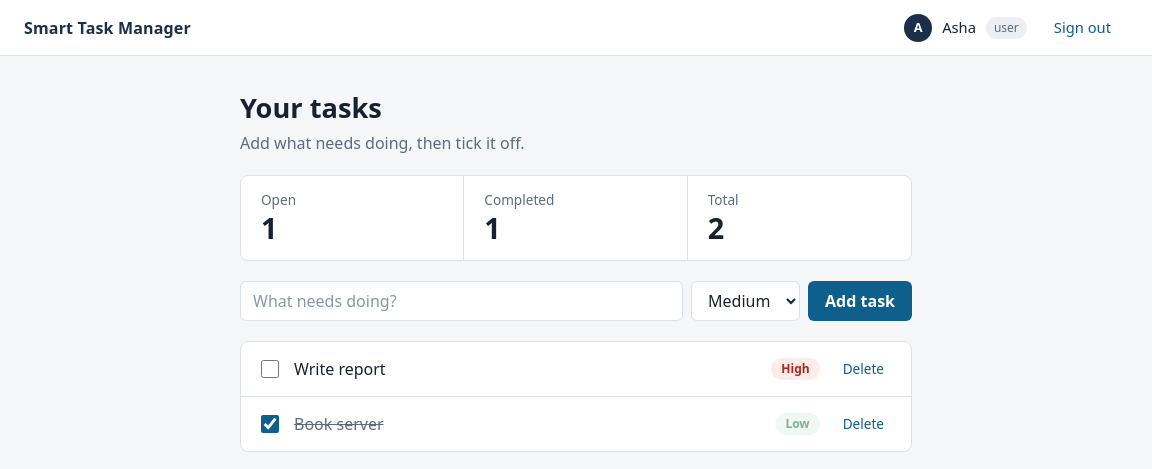
Test: deleting removes the task
Click the button named "Delete \"Write report\"" at point(863, 369), box [832,354,895,384]
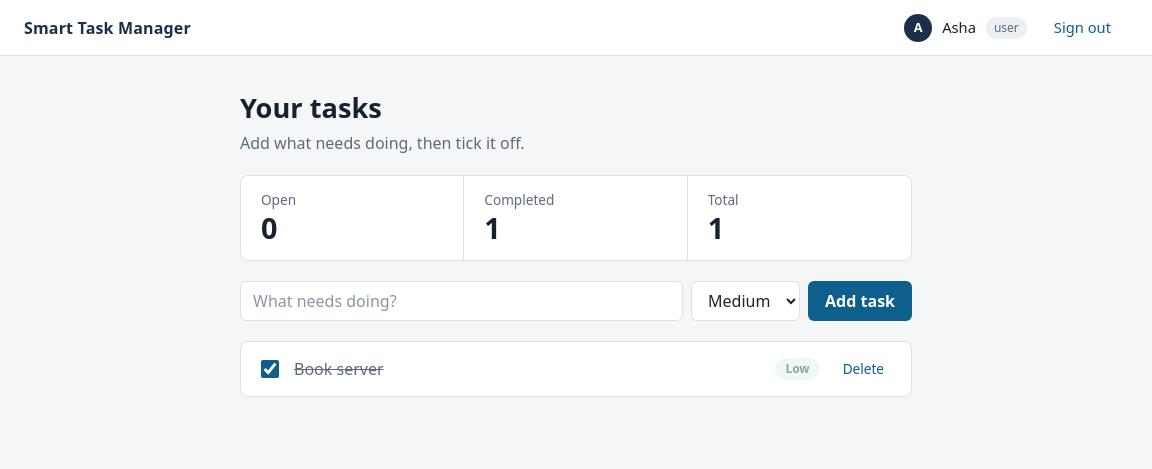
Result: the text "Write report" is gone
